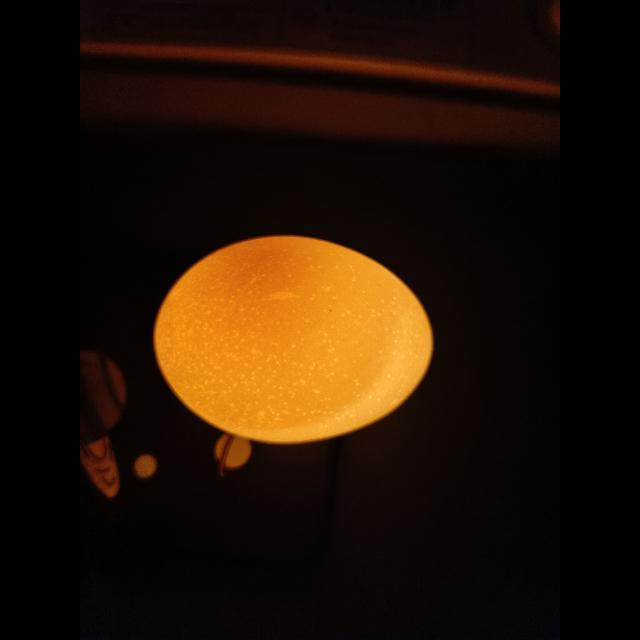AA - Premium: (154, 236, 433, 443)
